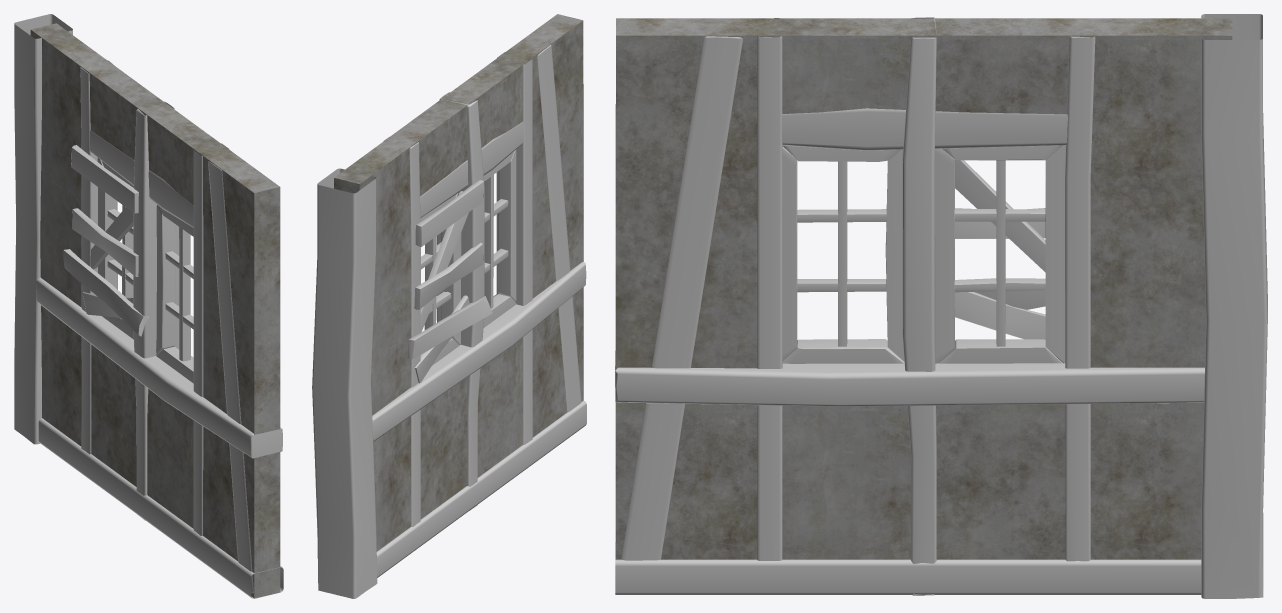
The model's file is SM_Wall47.fbx.
3 renders of one model, left to right at view 1: azimuth 30°, elevation 25°; view 2: azimuth 150°, elevation 25°; view 3: azimuth 270°, elevation 25°, orthographic. The views are drawn at different scales.
Visible parts, largest first — view 1: SM_Wall47_LOD0; view 2: SM_Wall47_LOD0; view 3: SM_Wall47_LOD0.
Part boxes in pixels (<box>): SM_Wall47_LOD0: <box>14,14,283,598</box>; SM_Wall47_LOD0: <box>312,14,586,598</box>; SM_Wall47_LOD0: <box>615,14,1267,598</box>.
Size of the model in its own units: 37.88 by 318 by 300.
